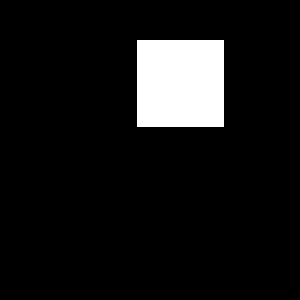circle: (137, 40, 224, 127)
